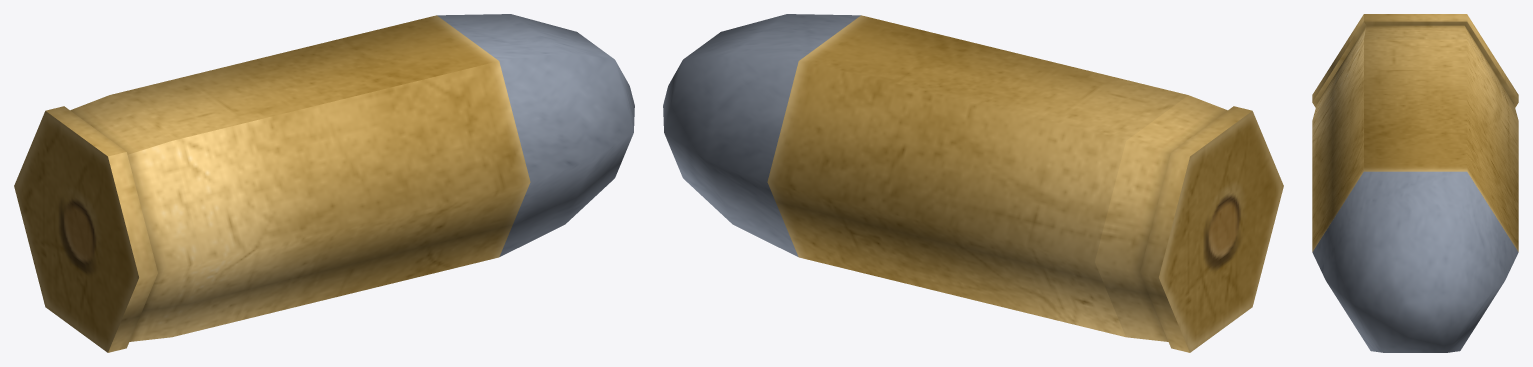
File: 45Ammo.FBX
3 views of the same model, side by side, from view 1: azimuth 30°, elevation 25°; view 2: azimuth 150°, elevation 25°; view 3: azimuth 270°, elevation 25° (orthographic). The views are drawn at different scales.
Visible parts, largest first — view 1: 45casing, 45bullet; view 2: 45casing, 45bullet; view 3: 45casing, 45bullet.
Boxes of the visible parts, <box> form: 45casing: <box>14,15,530,352</box>; 45bullet: <box>437,14,634,256</box>; 45casing: <box>767,15,1283,352</box>; 45bullet: <box>663,14,860,256</box>; 45casing: <box>1312,14,1518,251</box>; 45bullet: <box>1312,171,1518,352</box>.
Bounding box in the file's own units: 7.28 × 2.49 × 2.88.
